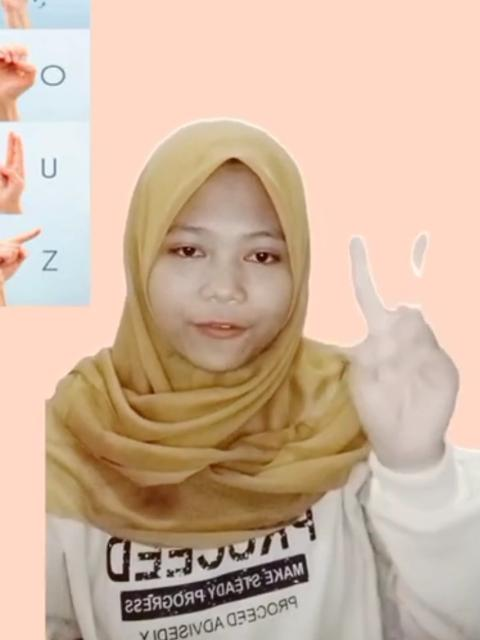V: (339, 227, 461, 463)
